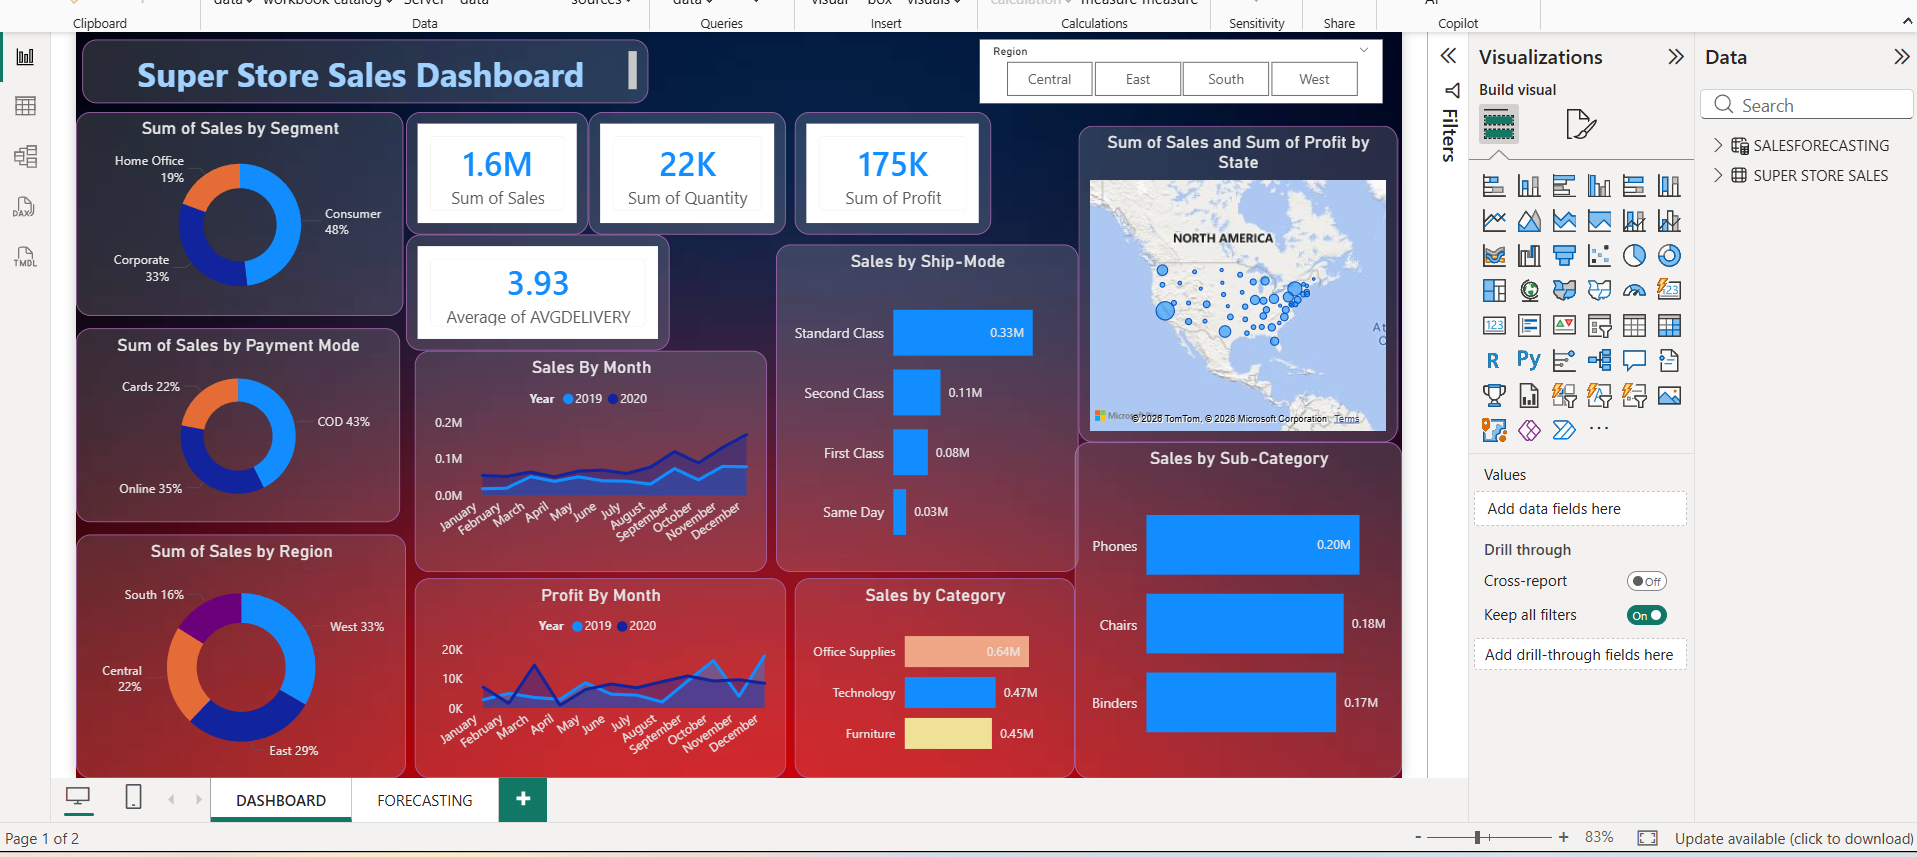

The page's visual inventory and layout, read from the dashboard file:
{"tool":"powerbi","page":{"name":"DASHBOARD","canvas":[1280,720],"ordinal":0},"visuals":[{"type":"clusteredBarChart","title":"Sales by Category","fields":{"Category":["SUPER STORE SALES.Category"],"Y":["Sum(SUPER STORE SALES.Sales)"]},"box":[693.7,527.2,270.2,193],"z":0},{"type":"clusteredBarChart","title":"Sales by Sub-Category","fields":{"Y":["Sum(SUPER STORE SALES.Sales)"],"Category":["SUPER STORE SALES.Sub-Category"]},"box":[963.9,395.7,316.1,324.5],"z":1000},{"type":"clusteredBarChart","title":"Sales by Ship-Mode","fields":{"Y":["Sum(SUPER STORE SALES.Sales)"],"Category":["SUPER STORE SALES.Ship Mode"]},"box":[675.6,205.1,292,316.1],"z":2000},{"type":"areaChart","title":"Sales By Month","fields":{"Y":["Sum(SUPER STORE SALES.Sales)"],"Category":["SUPER STORE SALES.Order Date.Variation.Date Hierarchy.Month","SUPER STORE SALES.Order Date.Variation.Date Hierarchy.Day"],"Series":["SUPER STORE SALES.Order Date.Variation.Date Hierarchy.Year"]},"box":[326.9,307.6,340.2,213.5],"z":3000},{"type":"areaChart","title":"Profit By Month","fields":{"Category":["SUPER STORE SALES.Order Date.Variation.Date Hierarchy.Month","SUPER STORE SALES.Order Date.Variation.Date Hierarchy.Day"],"Series":["SUPER STORE SALES.Order Date.Variation.Date Hierarchy.Year"],"Y":["Sum(SUPER STORE SALES.Profit)"]},"box":[326.9,527.2,358.3,193],"z":4000},{"type":"map","fields":{"Size":["Sum(SUPER STORE SALES.Sales)"],"Category":["SUPER STORE SALES.State"]},"box":[967.6,90.5,307.6,305.2],"z":5000},{"type":"donutChart","fields":{"Category":["SUPER STORE SALES.Segment"],"Y":["Sum(SUPER STORE SALES.Sales)"]},"box":[0,77.2,316.1,196.6],"z":6000},{"type":"donutChart","fields":{"Category":["SUPER STORE SALES.Payment Mode"],"Y":["Sum(SUPER STORE SALES.Sales)"]},"box":[0,285.9,312.5,187],"z":7000},{"type":"donutChart","fields":{"Category":["SUPER STORE SALES.Region"],"Y":["Sum(SUPER STORE SALES.Sales)"]},"box":[0,485,318.5,235.3],"z":8000},{"type":"slicer","fields":{"Values":["SUPER STORE SALES.Region"]},"box":[872.3,7.2,388.5,61.5],"z":9000},{"type":"textbox","box":[5.5,6.9,546.1,61.7],"z":10000},{"type":"cardVisual","title":"Sales","fields":{"Data":["Sum(SUPER STORE SALES.Sales)"]},"box":[318.5,77.2,176.1,118.2],"z":11000},{"type":"cardVisual","title":"Sales","fields":{"Data":["Sum(SUPER STORE SALES.Quantity)"]},"box":[494.6,77.2,190.6,118.2],"z":12000},{"type":"cardVisual","title":"Sales","fields":{"Data":["Sum(SUPER STORE SALES.Profit)"]},"box":[693.7,77.2,189.4,118.2],"z":13000},{"type":"cardVisual","title":"Sales","fields":{"Data":["Avg(SUPER STORE SALES.AVGDELIVERY)"]},"box":[318.5,195.4,254.6,112.2],"z":14000}]}

Visuals, with their boxes on the page's 1280x720 design canvas (x1, y1, x2, y2). These are canvas units, not pixel positions in the 1917x857 screenshot, which may show the page scaled, cropped or inside an application window:
"Sales by Category" clusteredBarChart: 694/527/964/720
"Sales by Sub-Category" clusteredBarChart: 964/396/1280/720
"Sales by Ship-Mode" clusteredBarChart: 676/205/968/521
"Sales By Month" areaChart: 327/308/667/521
"Profit By Month" areaChart: 327/527/685/720
map - Sum(SUPER STORE SALES.Sales) x SUPER STORE SALES.State: 968/90/1275/396
donutChart - SUPER STORE SALES.Segment x Sum(SUPER STORE SALES.Sales): 0/77/316/274
donutChart - SUPER STORE SALES.Payment Mode x Sum(SUPER STORE SALES.Sales): 0/286/312/473
donutChart - SUPER STORE SALES.Region x Sum(SUPER STORE SALES.Sales): 0/485/318/720
slicer - SUPER STORE SALES.Region: 872/7/1261/69
textbox: 6/7/552/69
"Sales" cardVisual: 318/77/495/195
"Sales" cardVisual: 495/77/685/195
"Sales" cardVisual: 694/77/883/195
"Sales" cardVisual: 318/195/573/308
